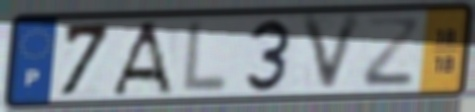3: (242, 16, 294, 95)
7: (56, 21, 114, 100)
A: (108, 19, 176, 98)
L: (177, 18, 232, 96)
V: (297, 10, 368, 97)
Z: (359, 16, 423, 90)
